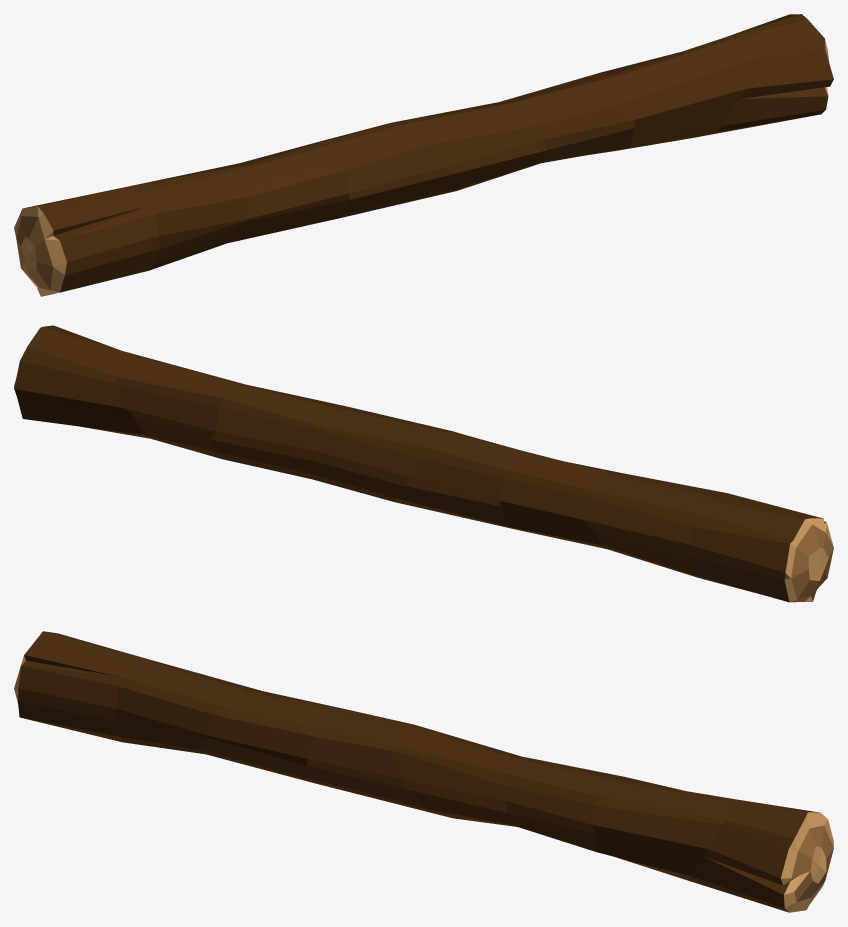
The model's file is timber.fbx.
3 renders of one model, top to bottom at view 1: azimuth 30°, elevation 25°; view 2: azimuth 150°, elevation 25°; view 3: azimuth 330°, elevation 25°, orthographic.
Parts seen in each view (by area): view 1: timber; view 2: timber; view 3: timber.
Part boxes in pixels (bbox=[...]): timber: bbox=[14, 14, 833, 296]; timber: bbox=[14, 325, 833, 602]; timber: bbox=[14, 631, 833, 912].
Size of the model in its own units: 2 by 0.2299 by 0.2266.
